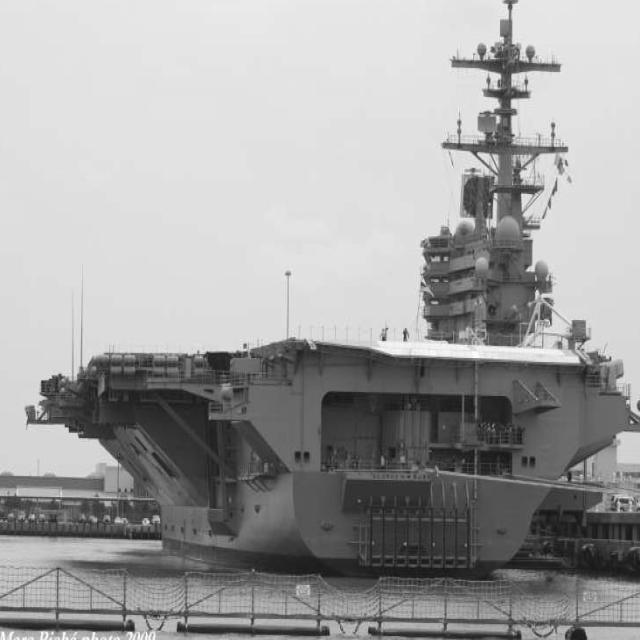Portanaves: (24, 1, 640, 597)
